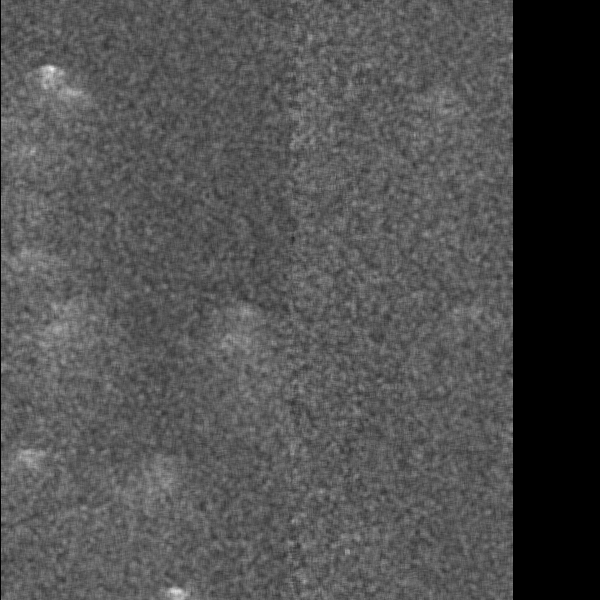spark: (153, 373, 177, 598), (277, 412, 329, 488), (117, 59, 164, 112), (39, 538, 76, 598), (74, 346, 100, 424), (119, 423, 154, 450), (20, 148, 56, 174), (459, 542, 476, 588), (129, 30, 167, 47), (107, 1, 124, 16)
